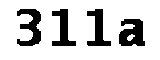1: (82, 7, 114, 55), (49, 7, 77, 51)
3: (11, 6, 47, 47)
a: (117, 18, 149, 50)
